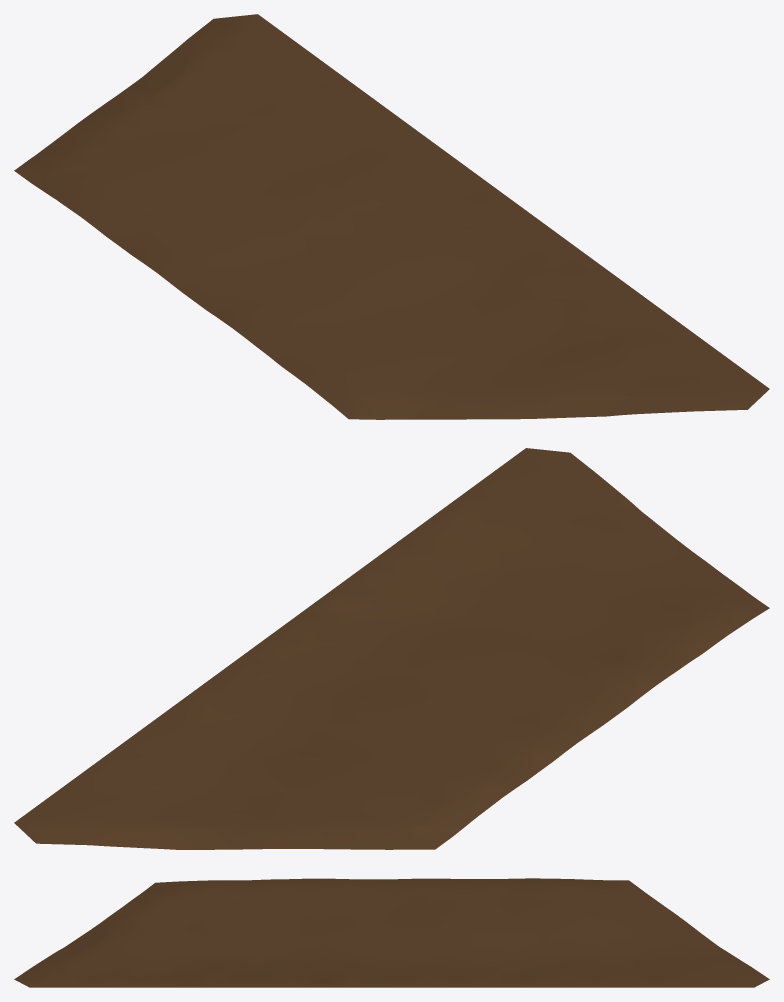
The model's file is forest_forest_edge_e0.glb.
The picture shows the model from 3 angles, top to bottom: view 1: azimuth 30°, elevation 25°; view 2: azimuth 150°, elevation 25°; view 3: azimuth 270°, elevation 25°; orthographic projection. The views are drawn at different scales.
Parts seen in each view (by area): view 1: forest_forest_edge_e0_lod0; view 2: forest_forest_edge_e0_lod0; view 3: forest_forest_edge_e0_lod0.
Part boxes in pixels (x1,y1,x2,y2): forest_forest_edge_e0_lod0: [14, 14, 769, 419]; forest_forest_edge_e0_lod0: [14, 448, 769, 849]; forest_forest_edge_e0_lod0: [14, 878, 769, 987].
Size of what is drawn, in the model's own units: 6 by 0.2527 by 16.69.
